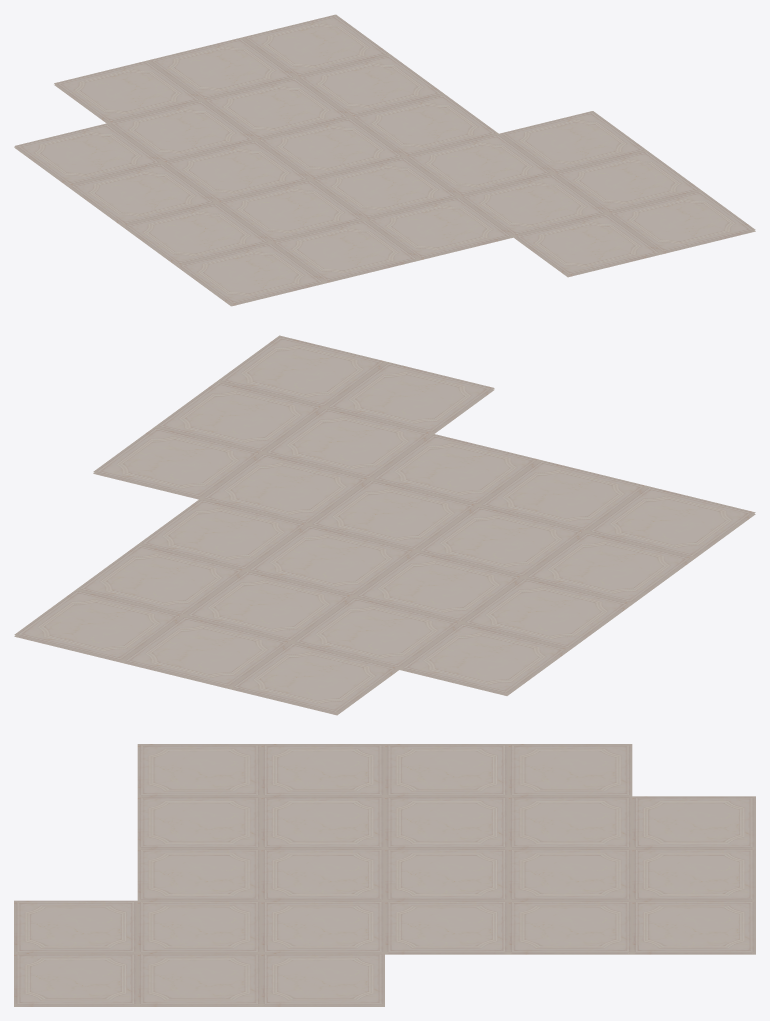
The model's file is Homeworld_Interior_Fd_Room_F_Ceiling_01_Vo.fbx.
3 views of the same model, one above another, from view 1: azimuth 30°, elevation 25°; view 2: azimuth 150°, elevation 25°; view 3: azimuth 270°, elevation 25° (orthographic). The views are drawn at different scales.
Parts seen in each view (by area): view 1: Homeworld_Interior_Fd_Room_Ceiling_01_Vo (×23); view 2: Homeworld_Interior_Fd_Room_Ceiling_01_Vo (×23); view 3: Homeworld_Interior_Fd_Room_Ceiling_01_Vo (×23).
Part boxes in pixels (x1,y1,x2,y2): Homeworld_Interior_Fd_Room_Ceiling_01_Vo (×23): (14,14,755,306); Homeworld_Interior_Fd_Room_Ceiling_01_Vo (×23): (14,335,755,715); Homeworld_Interior_Fd_Room_Ceiling_01_Vo (×23): (14,744,755,1006).
Bounding box in the file's own units: 25 × 0.074 × 30.
1 material, 1 textured.
